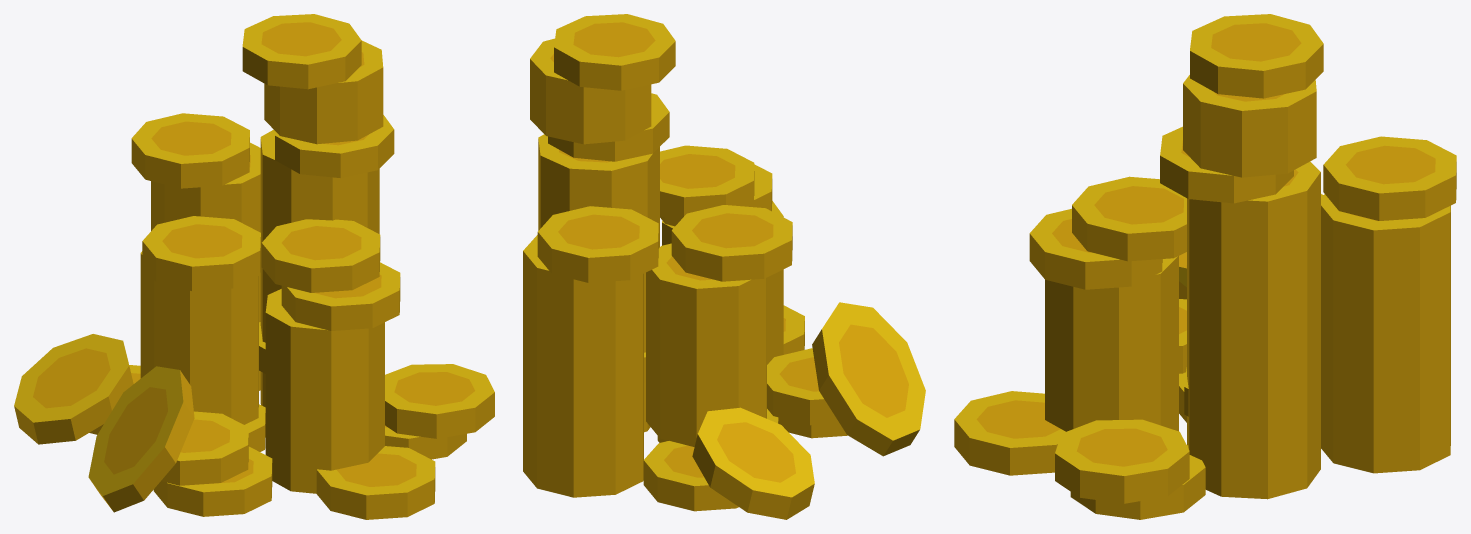
The model's file is Coins.fbx.
3 views of the same model, side by side, from view 1: azimuth 30°, elevation 25°; view 2: azimuth 150°, elevation 25°; view 3: azimuth 270°, elevation 25° (orthographic). The views are drawn at different scales.
Visible parts, largest first — view 1: Coins; view 2: Coins; view 3: Coins.
Boxes of the visible parts, x1=… form: Coins: x1=14, y1=14, x2=494, y2=519; Coins: x1=523, y1=14, x2=925, y2=519; Coins: x1=954, y1=14, x2=1456, y2=519.
Size of the model in its own units: 54.05 by 51.75 by 55.6.
